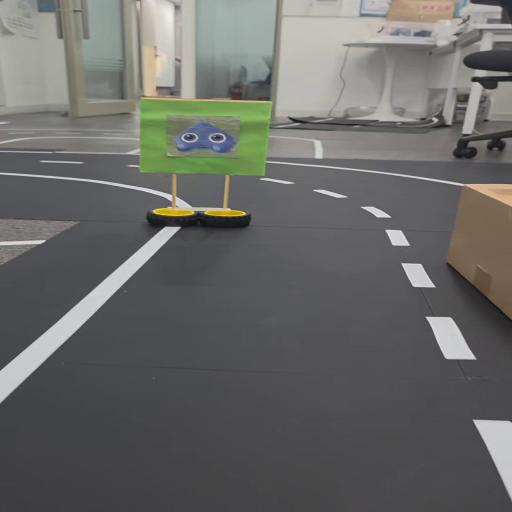Sign_B: (130, 92, 276, 231)
